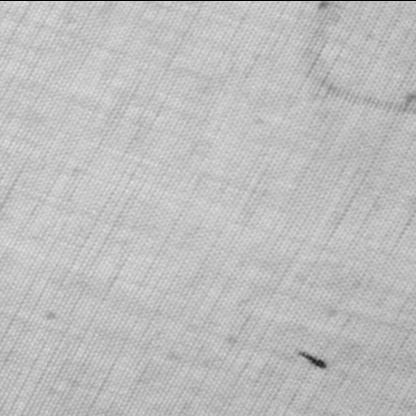oil spot: (293, 1, 415, 118), (291, 346, 337, 370)
